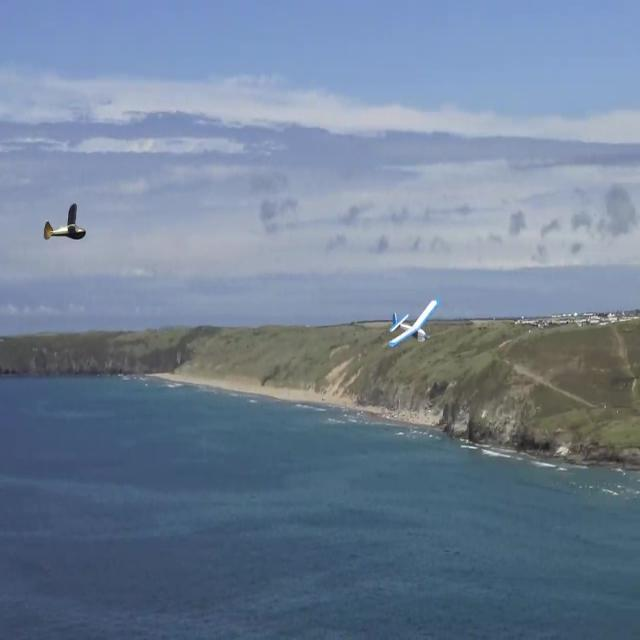iha: (386, 298, 441, 349), (0, 202, 22, 243)
